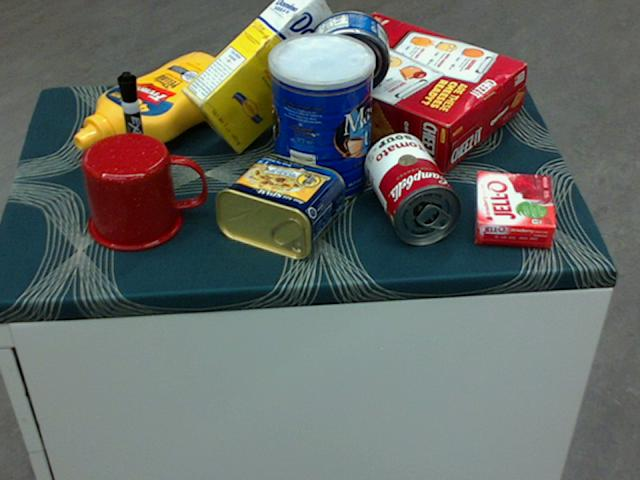cracker_box: (289, 11, 524, 173)
gelatin_box: (472, 171, 556, 245)
large_marker: (115, 72, 150, 180)
master_chef_can: (267, 33, 374, 205)
mug: (82, 132, 206, 251)
mustard_bottle: (72, 52, 239, 152)
potted_meat_can: (213, 153, 343, 259)
sugar_box: (179, 0, 350, 155)
tomato_soup_can: (365, 131, 460, 244)
tuna_fish_can: (308, 9, 389, 94)
